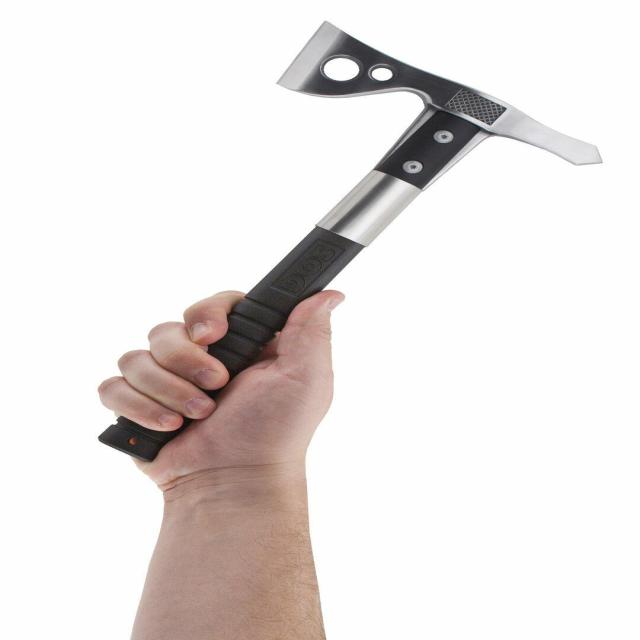Kapak: (148, 23, 557, 452)
